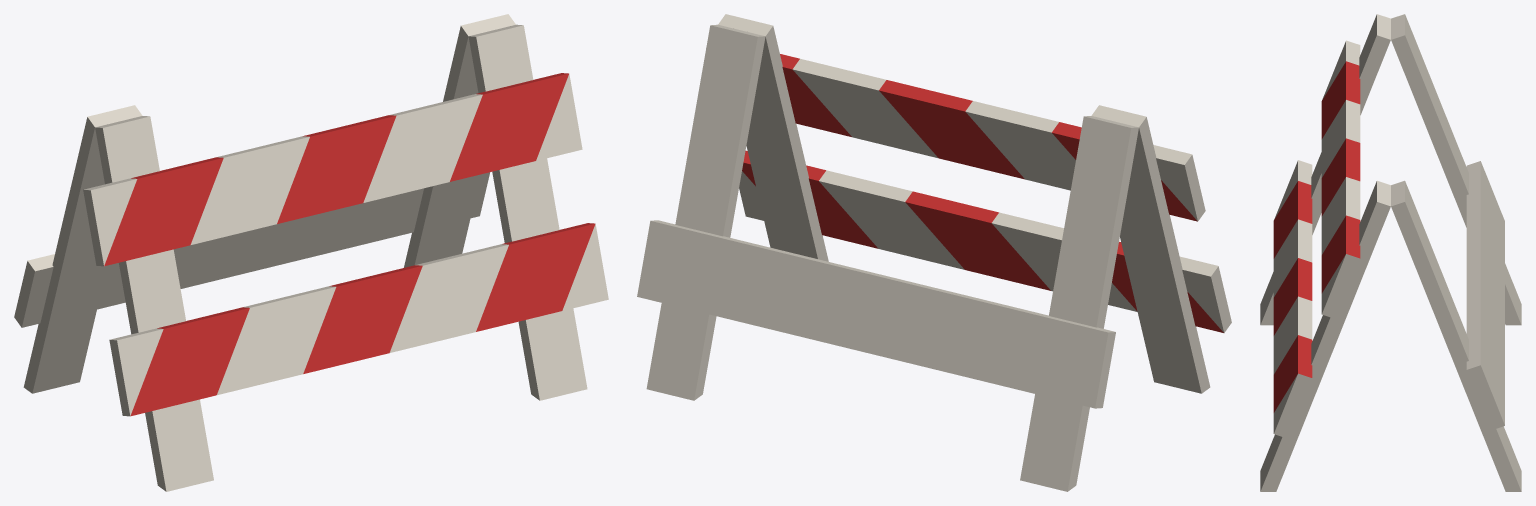
The model's file is Road_Work_Sign_1.fbx.
The picture shows the model from 3 angles, left to right: view 1: azimuth 30°, elevation 25°; view 2: azimuth 150°, elevation 25°; view 3: azimuth 270°, elevation 25°; orthographic projection. The views are drawn at different scales.
Visible parts, largest first — view 1: Road_Work_Sign_1; view 2: Road_Work_Sign_1; view 3: Road_Work_Sign_1.
Part boxes in pixels (bbox=[...]): Road_Work_Sign_1: bbox=[14, 14, 608, 491]; Road_Work_Sign_1: bbox=[637, 14, 1231, 491]; Road_Work_Sign_1: bbox=[1260, 14, 1521, 491].
Bounding box in the file's own units: 171 × 108 × 88.16.
Materials: 1 (1 with a texture image).
